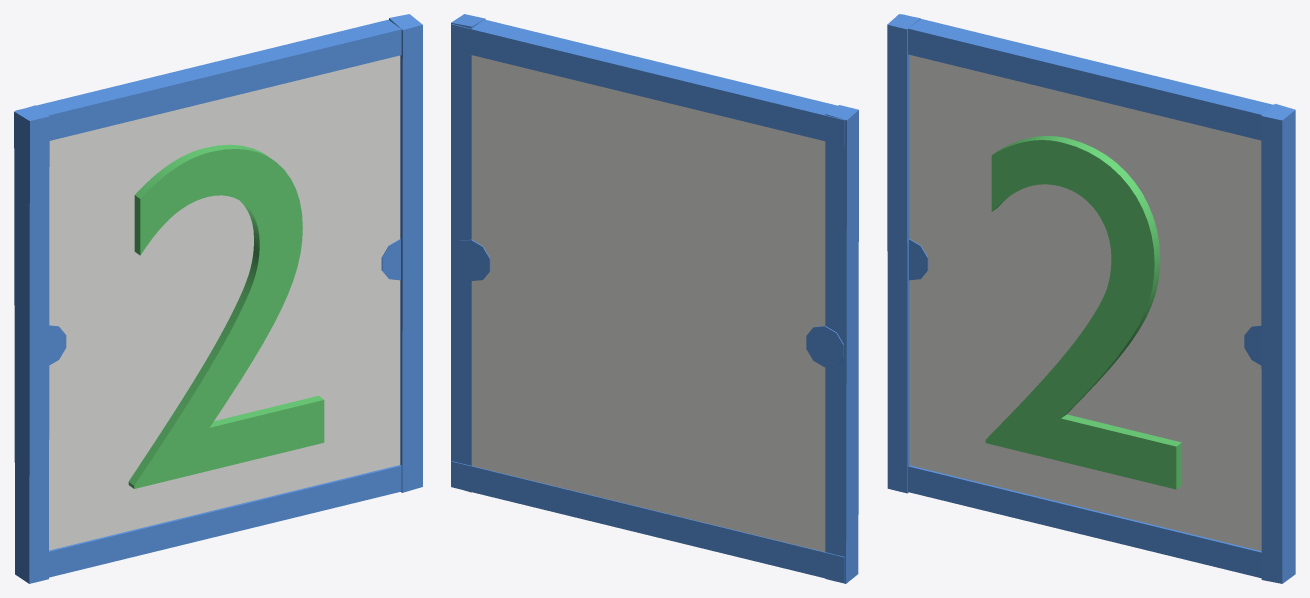
The model's file is Sign_Cartoon_2.fbx.
3 views of the same model, side by side, from view 1: azimuth 30°, elevation 25°; view 2: azimuth 150°, elevation 25°; view 3: azimuth 330°, elevation 25° (orthographic).
Parts seen in each view (by area): view 1: Sign_Cartoon_2; view 2: Sign_Cartoon_2; view 3: Sign_Cartoon_2.
Boxes of the visible parts, box(x1,y1,x2,y2) form: Sign_Cartoon_2: box(14, 14, 422, 583); Sign_Cartoon_2: box(451, 14, 858, 583); Sign_Cartoon_2: box(887, 14, 1295, 583).
Bounding box in the file's own units: 0.806 × 0.906 × 0.062.
